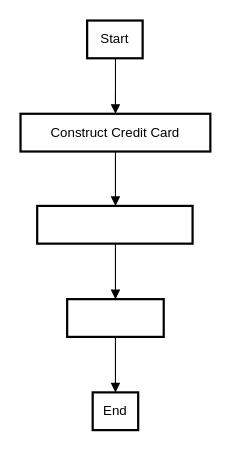
Image size: 230x450. Some labels were removed from this diagram. The shapes that lost their labels are listed below. From the top down, each one's centre as x and y in pixels, then its label:
At point 114,224: "Get Card Number".
At point 114,317: "Get Issuer".
